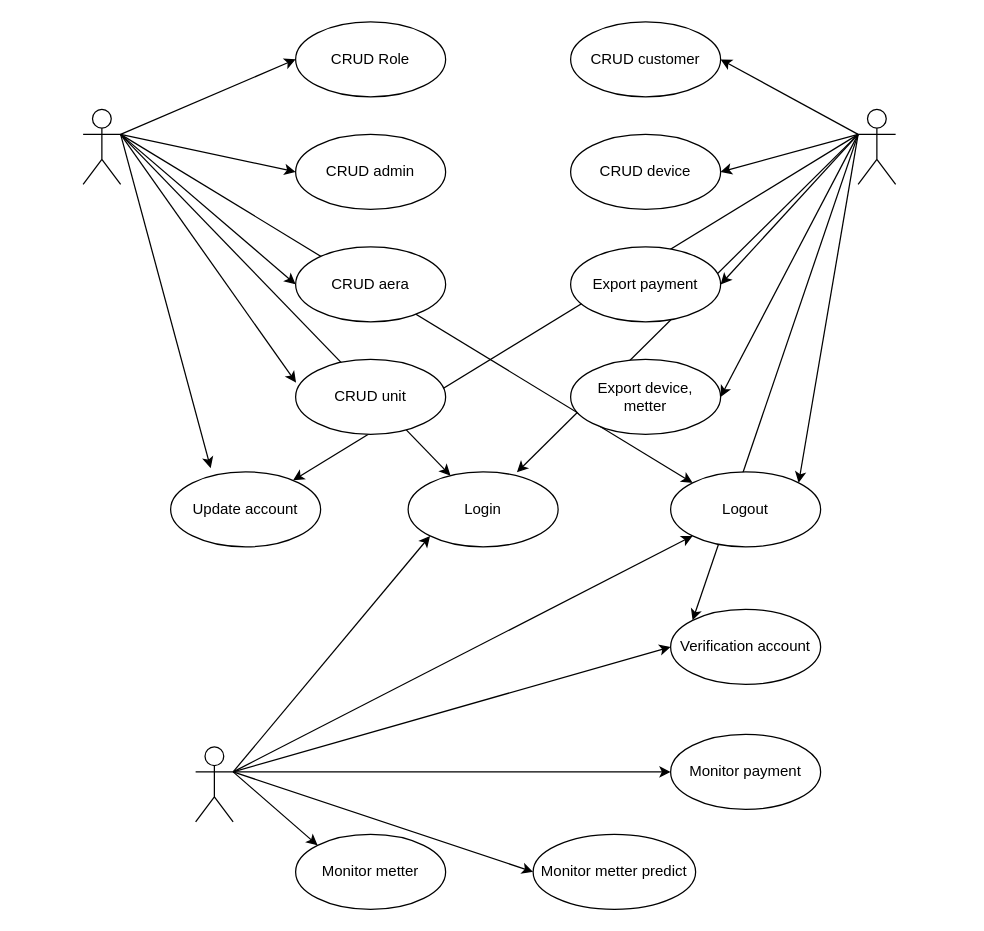
Some shapes in this 984 by 931 pixel diagram are drawn without their labels. Here are the shapes that lost their labels. From the top down, the centre of each, then its label:
At pixel 101 146: "Super admin (Người quản lý cấp cao)".
At pixel 876 146: "admin (Người quản lý cấp vùng)".
At pixel 213 784: "Customer (Hộ gia đình)".
